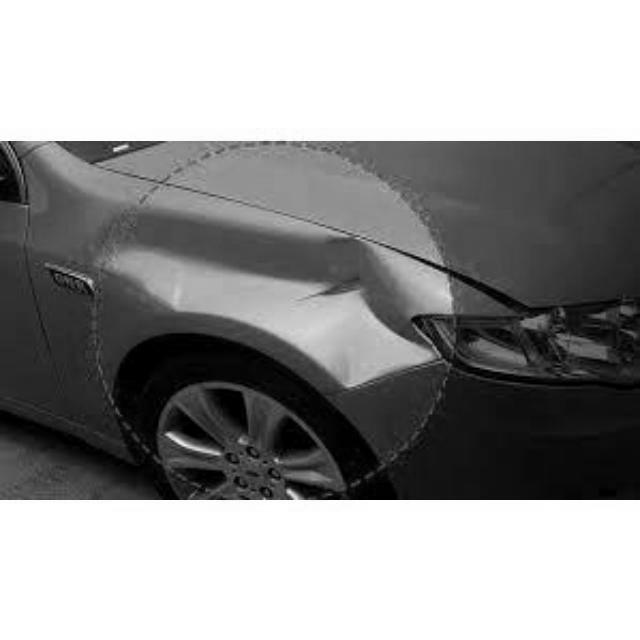fender-dent: (37, 200, 400, 452)
